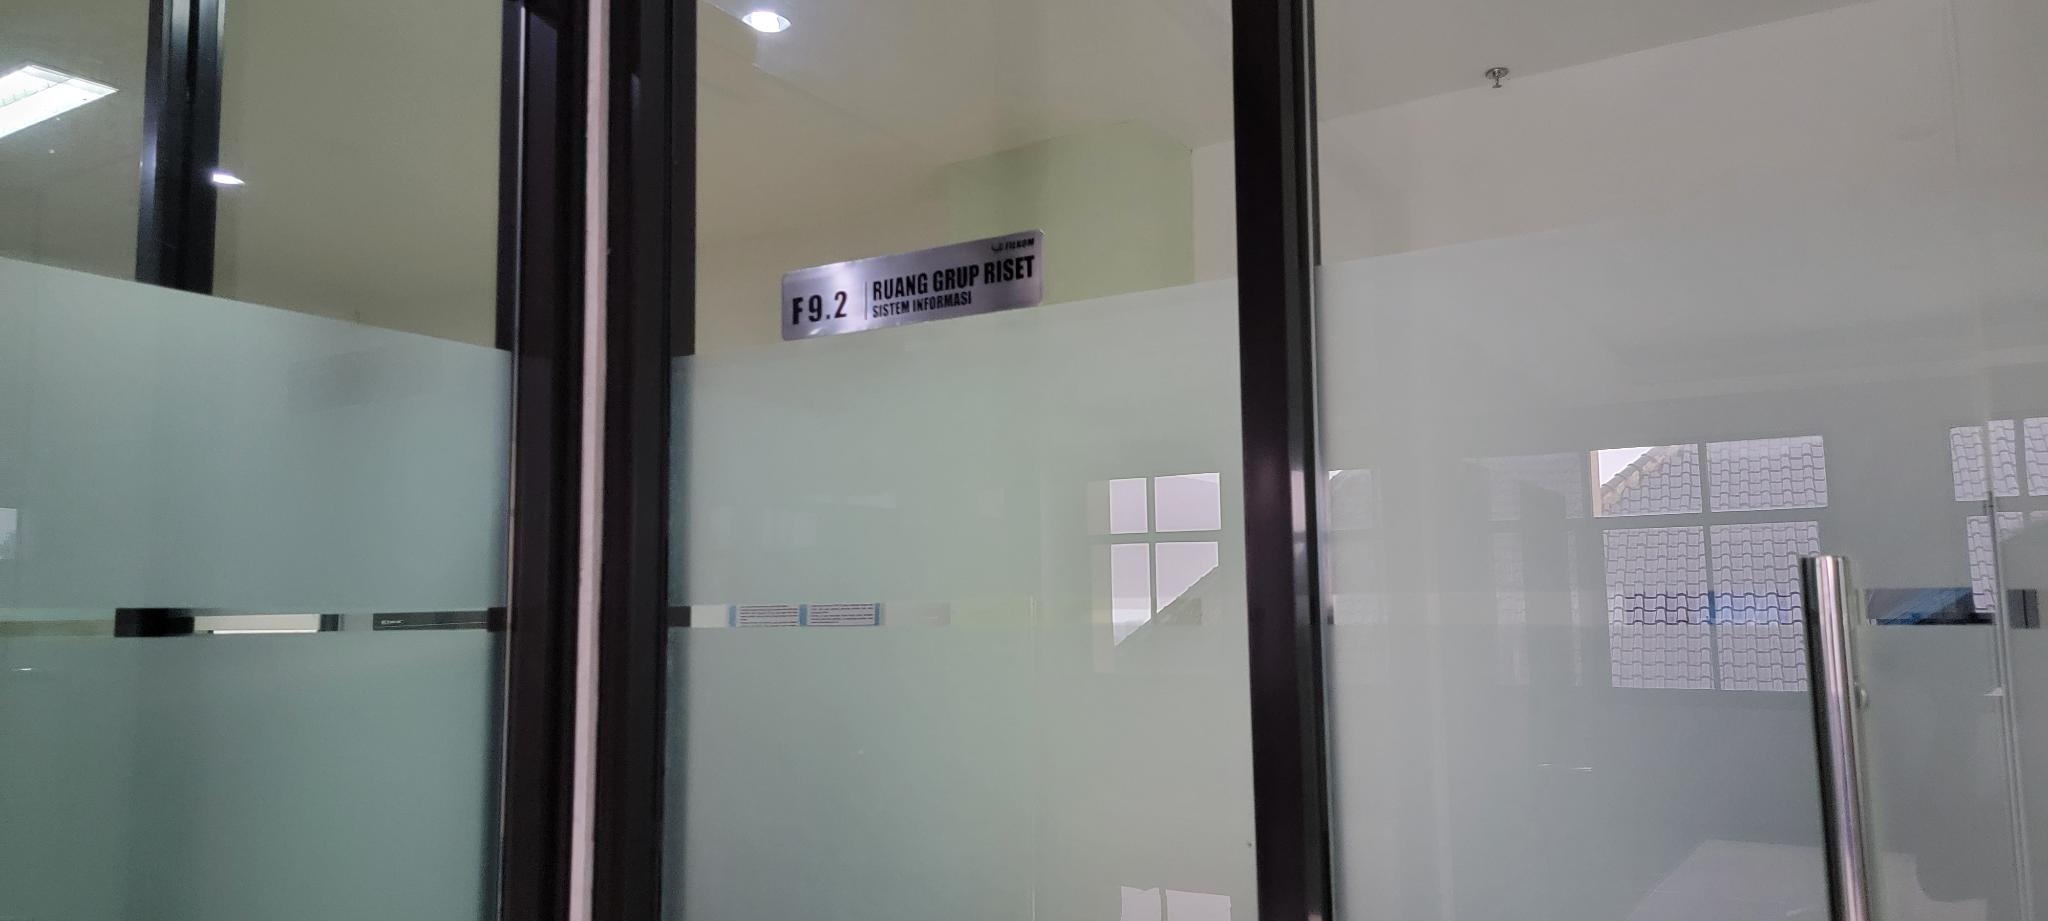plate: (780, 225, 1045, 342)
